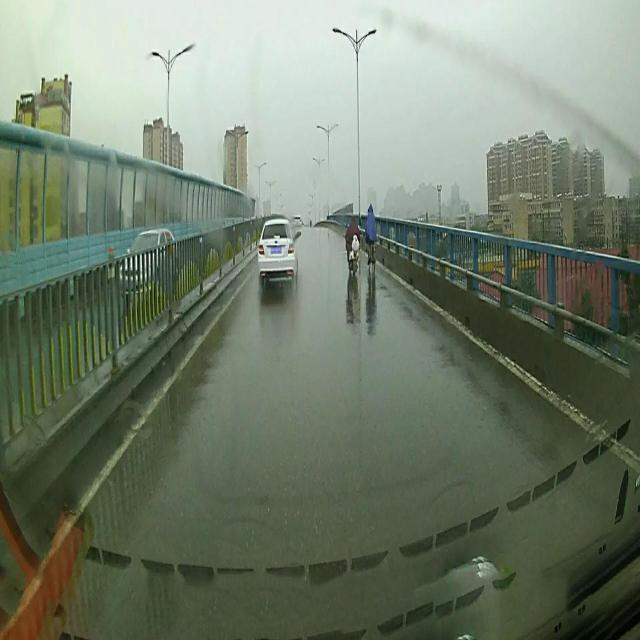car: (120, 227, 174, 301), (256, 216, 298, 284)
